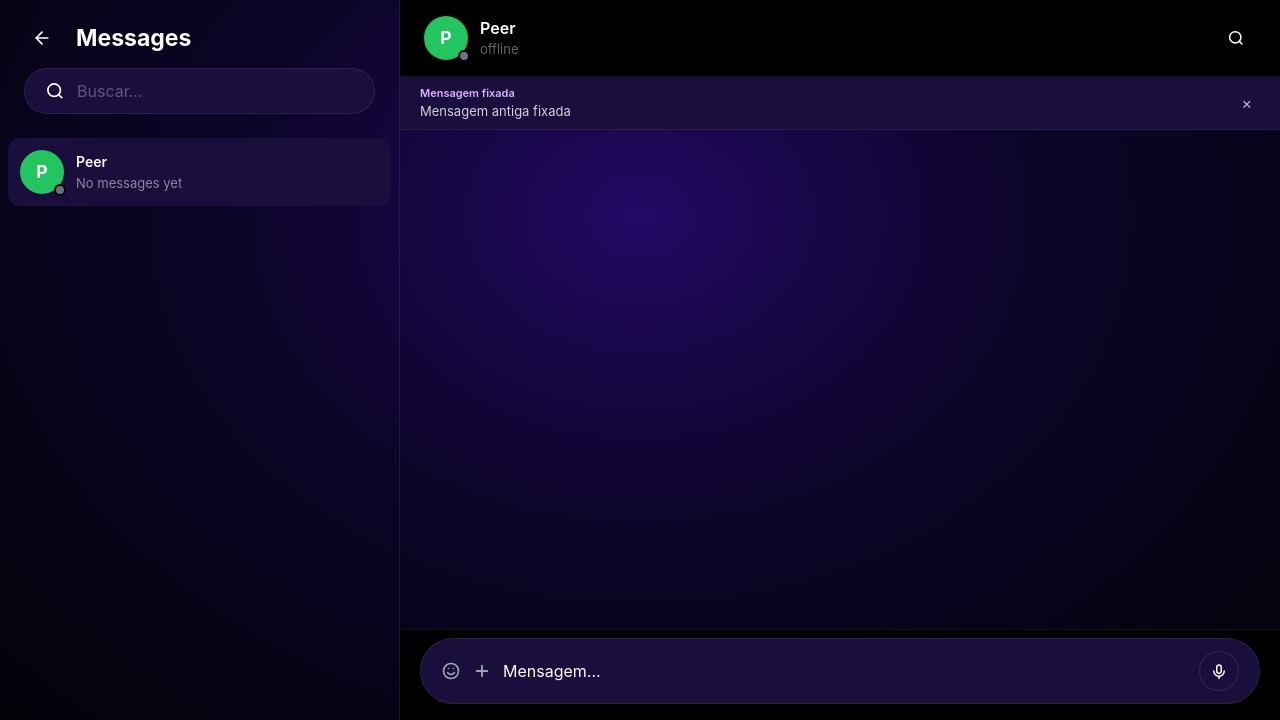
Test: direct message pins › shows an older pinned message returned separately from the current message page
The width and height of the screenshot is (1280, 720).
Expected: the text "Mensagem antiga fixada" is shown, [420, 102, 571, 118]
Click the button named "Desafixar mensagem" at (1247, 103), box [1233, 87, 1260, 119]
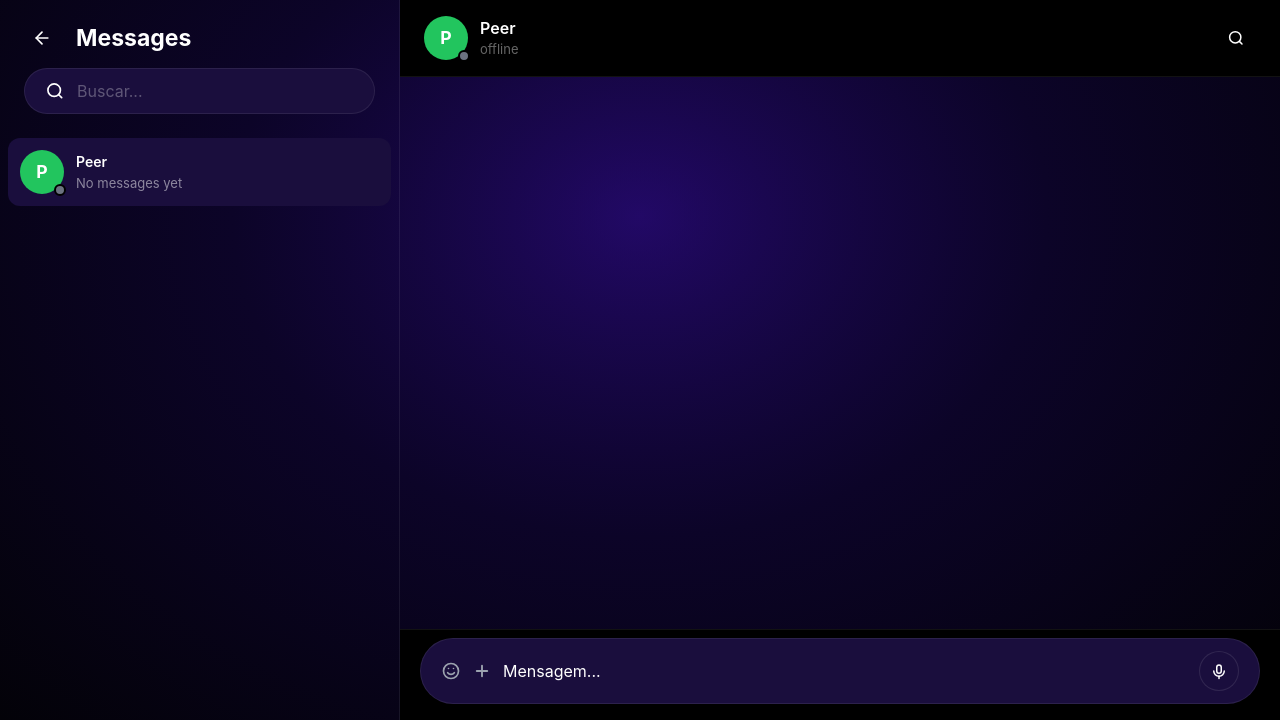
Result: the text "Mensagem antiga fixada" is gone
